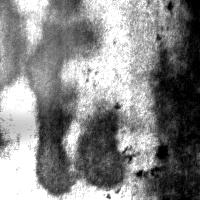patches: (27, 1, 87, 196), (0, 5, 79, 147), (0, 0, 93, 110), (150, 1, 200, 200), (78, 103, 127, 188), (1, 1, 27, 91)
